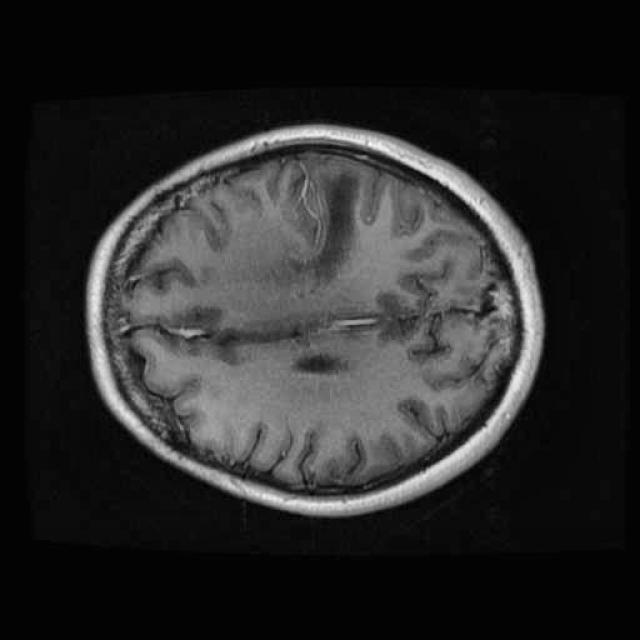Tumor: (278, 157, 380, 291)
